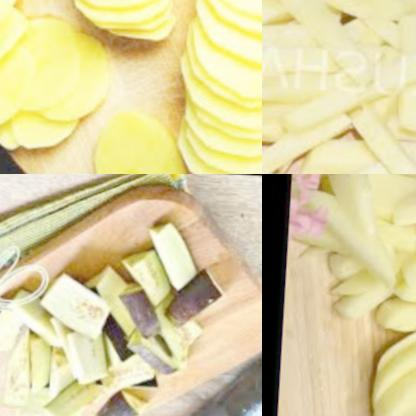eggplant: (0, 201, 250, 416), (160, 334, 262, 416)
potato: (262, 0, 416, 174), (302, 174, 416, 359), (0, 0, 111, 150), (168, 0, 262, 174), (48, 0, 199, 59), (91, 104, 182, 174), (356, 312, 416, 416)
